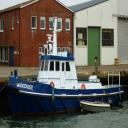tugboat: (7, 16, 126, 122)
